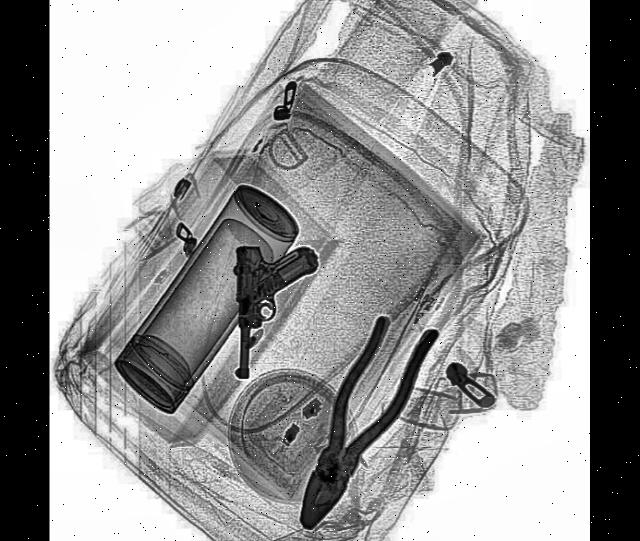Gun: (234, 238, 320, 383)
Pliers: (279, 286, 443, 541)
